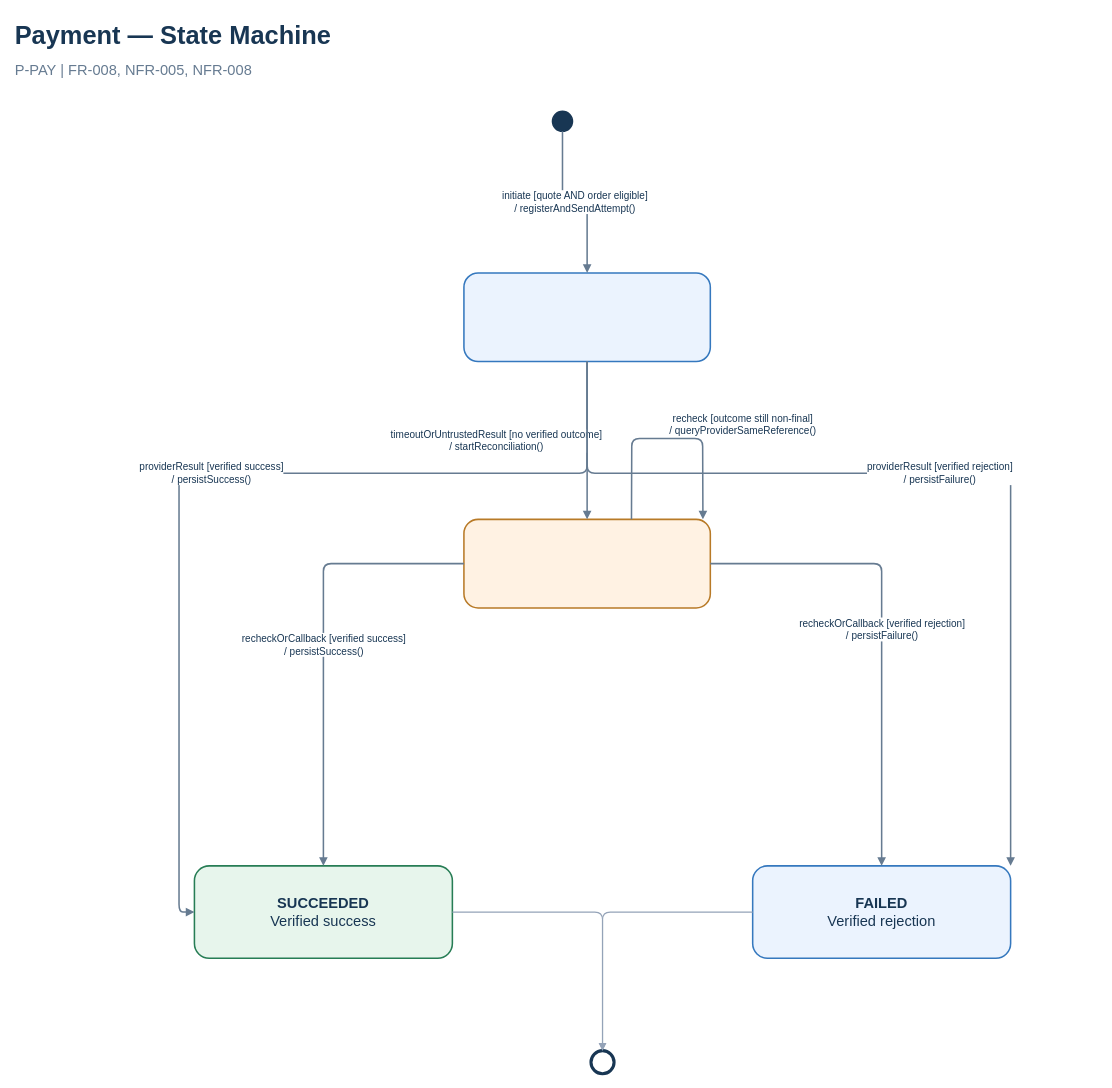
Image size: 1112x1088. Some labels were removed from this diagram. The centre of each missing label's shape, as x and y in pixels:
INITIATED Provider request sent: (x=587, y=317)
UNKNOWN Unverified / pending: (x=587, y=563)
